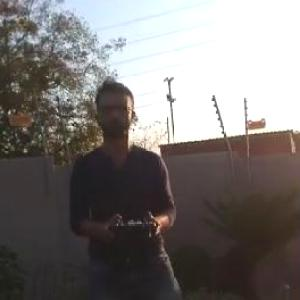follow: (63, 71, 193, 299)
